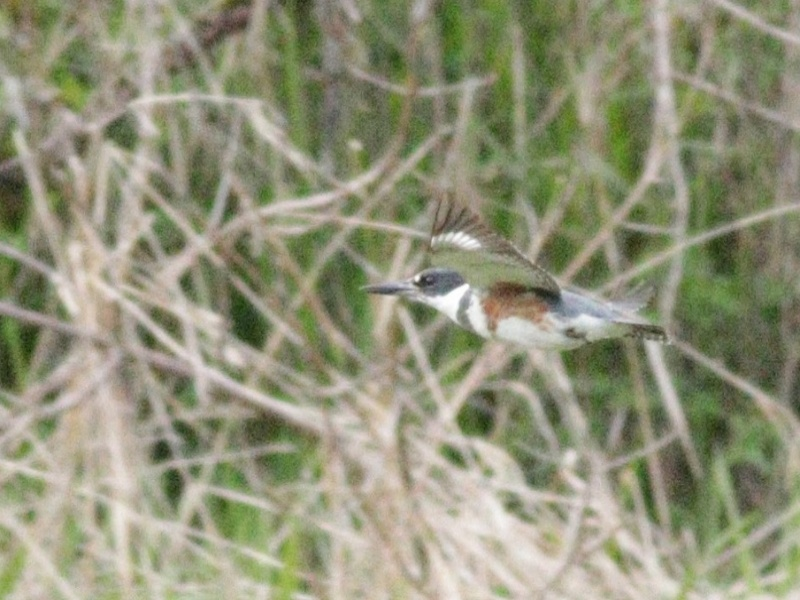kingfisher: (353, 191, 676, 372)
